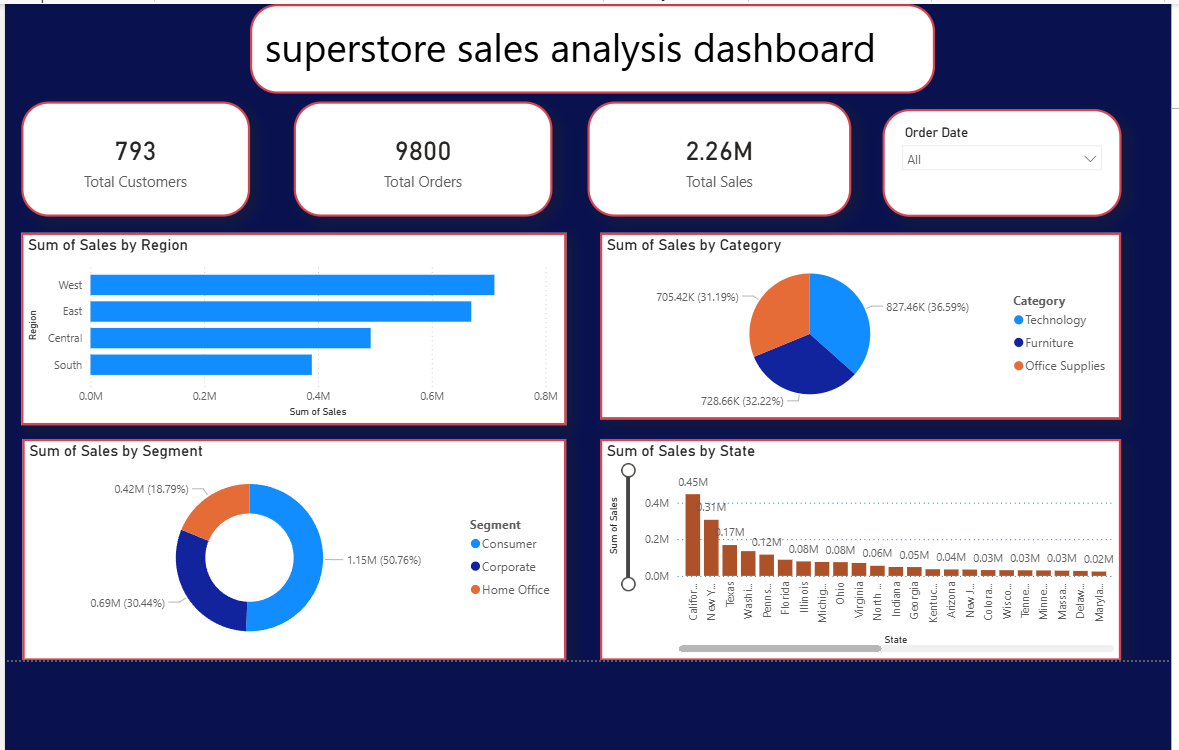

What the dashboard file says about the page in this screenshot:
{"tool":"powerbi","page":{"name":"Page 1","canvas":[1280,720],"ordinal":0},"visuals":[{"type":"qnaVisual","box":[17.1,254.3,178.5,117.4],"z":0},{"type":"card","fields":{"Values":["superstore.Total Sales"]},"box":[639.5,20.6,179.8,126.2],"z":1000},{"type":"card","fields":{"Values":["superstore.Total Orders"]},"box":[849.4,20.6,178.4,126.2],"z":2000},{"type":"card","fields":{"Values":["superstore.Total Customers"]},"box":[1052.5,20.6,190.7,126.2],"z":3000},{"type":"clusteredBarChart","fields":{"Category":["superstore.Region"],"Y":["Sum(superstore.Sales)"]},"box":[30.2,196.2,531,242.9],"z":4000},{"type":"pieChart","fields":{"Category":["superstore.Category"],"Y":["Sum(superstore.Sales)"]},"box":[746.5,196.2,496.7,252.5],"z":5000},{"type":"clusteredColumnChart","fields":{"Category":["superstore.State"],"Y":["Sum(superstore.Sales)"]},"box":[746.5,477.5,496.7,242.9],"z":6000},{"type":"donutChart","fields":{"Category":["superstore.Segment"],"Y":["Sum(superstore.Sales)"]},"box":[30.2,477.5,531,242.9],"z":7000},{"type":"textbox","box":[30.2,20.6,531,156.4],"z":7001}]}

Visuals, with their boxes on the page's 1280x720 design canvas (x1, y1, x2, y2). These are canvas units, not pixel positions in the 1179x750 screenshot, which may show the page scaled, cropped or inside an application window:
qnaVisual: 17,254,196,372
card - superstore.Total Sales: 640,21,819,147
card - superstore.Total Orders: 849,21,1028,147
card - superstore.Total Customers: 1052,21,1243,147
clusteredBarChart - superstore.Region x Sum(superstore.Sales): 30,196,561,439
pieChart - superstore.Category x Sum(superstore.Sales): 746,196,1243,449
clusteredColumnChart - superstore.State x Sum(superstore.Sales): 746,478,1243,720
donutChart - superstore.Segment x Sum(superstore.Sales): 30,478,561,720
textbox: 30,21,561,177
